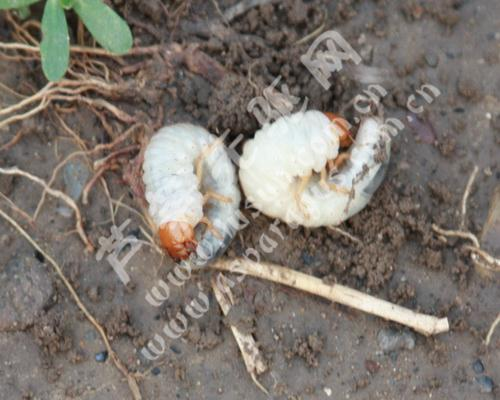grub: (237, 107, 398, 249)
